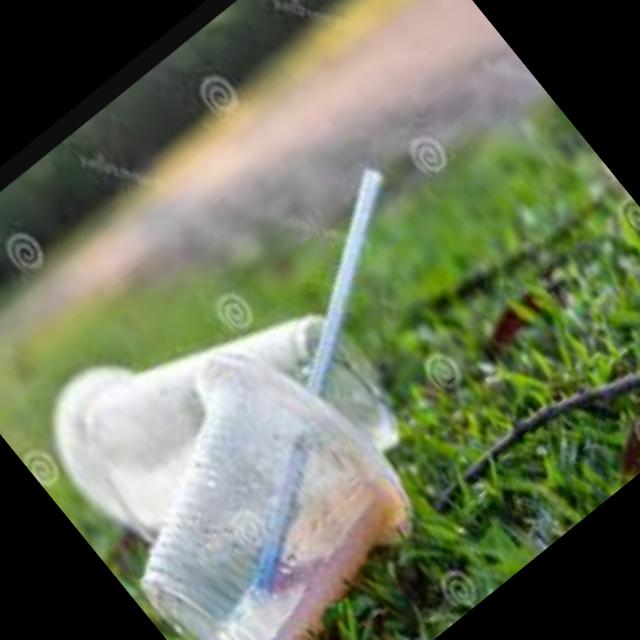GelasPlastik: (36, 279, 470, 640)
